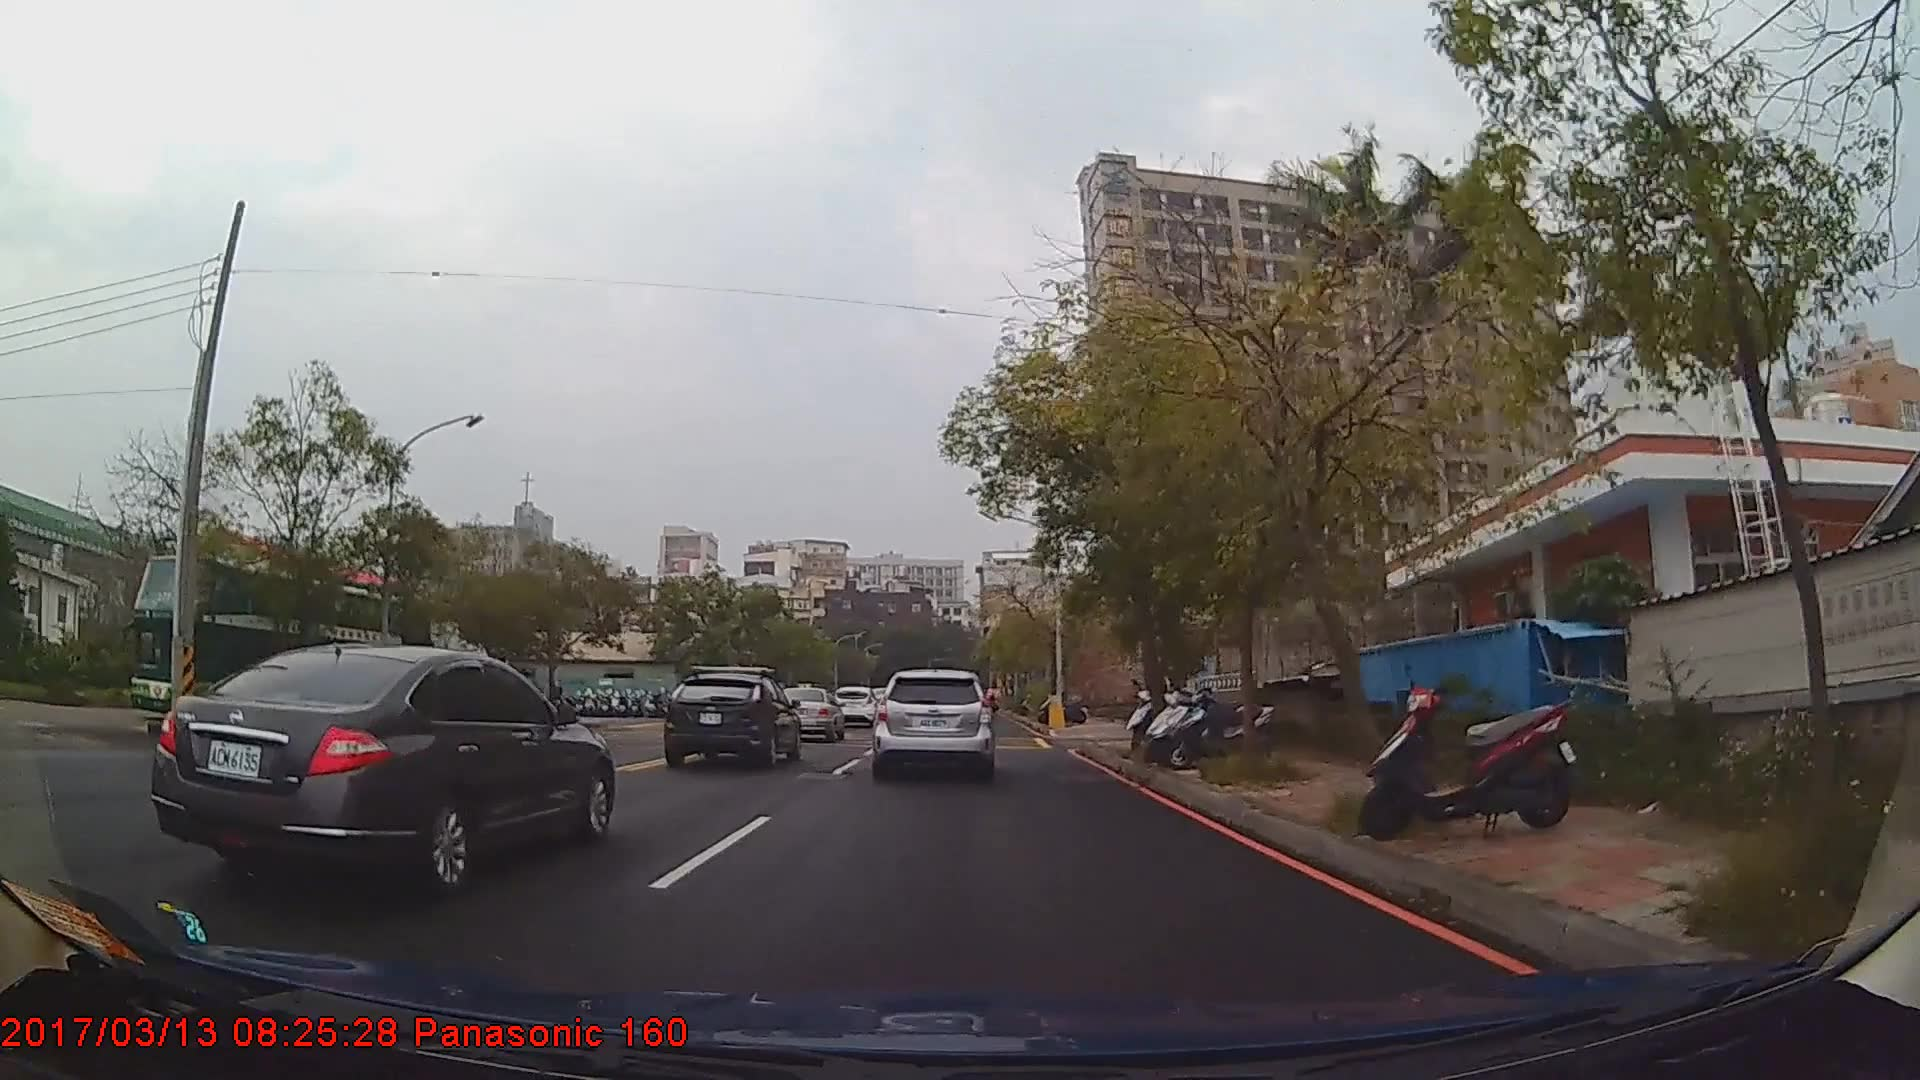vehicle: (149, 642, 616, 891), (121, 549, 434, 744), (659, 671, 802, 773), (873, 667, 992, 778), (775, 684, 843, 744), (831, 684, 878, 727)
